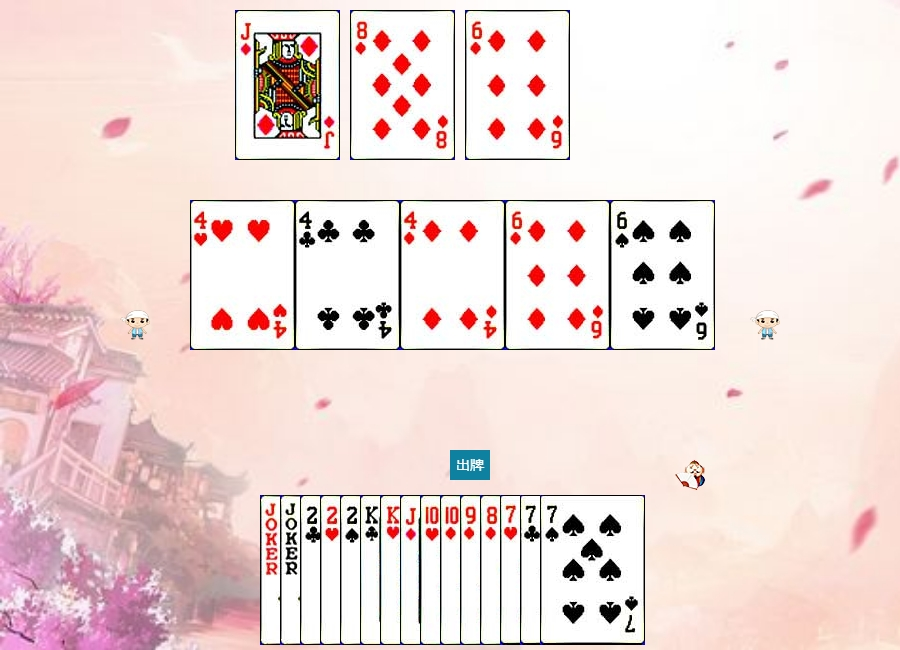10~1: (440, 495, 545, 645)
10~3: (420, 495, 525, 645)
11~1: (235, 10, 340, 160), (400, 495, 505, 645)
13~2: (360, 495, 465, 645)
13~3: (380, 495, 485, 645)
15~2: (300, 495, 405, 645)
15~3: (320, 495, 425, 645)
15~4: (340, 495, 445, 645)
17~3: (280, 495, 385, 645)
18~4: (260, 495, 365, 645)
4~1: (400, 200, 505, 350)
4~2: (295, 200, 400, 350)
4~3: (190, 200, 295, 350)
6~1: (465, 10, 570, 160), (505, 200, 610, 350)
6~4: (610, 200, 715, 350)
7~2: (520, 495, 625, 645)
7~3: (500, 495, 605, 645)
7~4: (540, 495, 645, 645)
8~1: (350, 10, 455, 160), (480, 495, 585, 645)
9~1: (460, 495, 565, 645)
